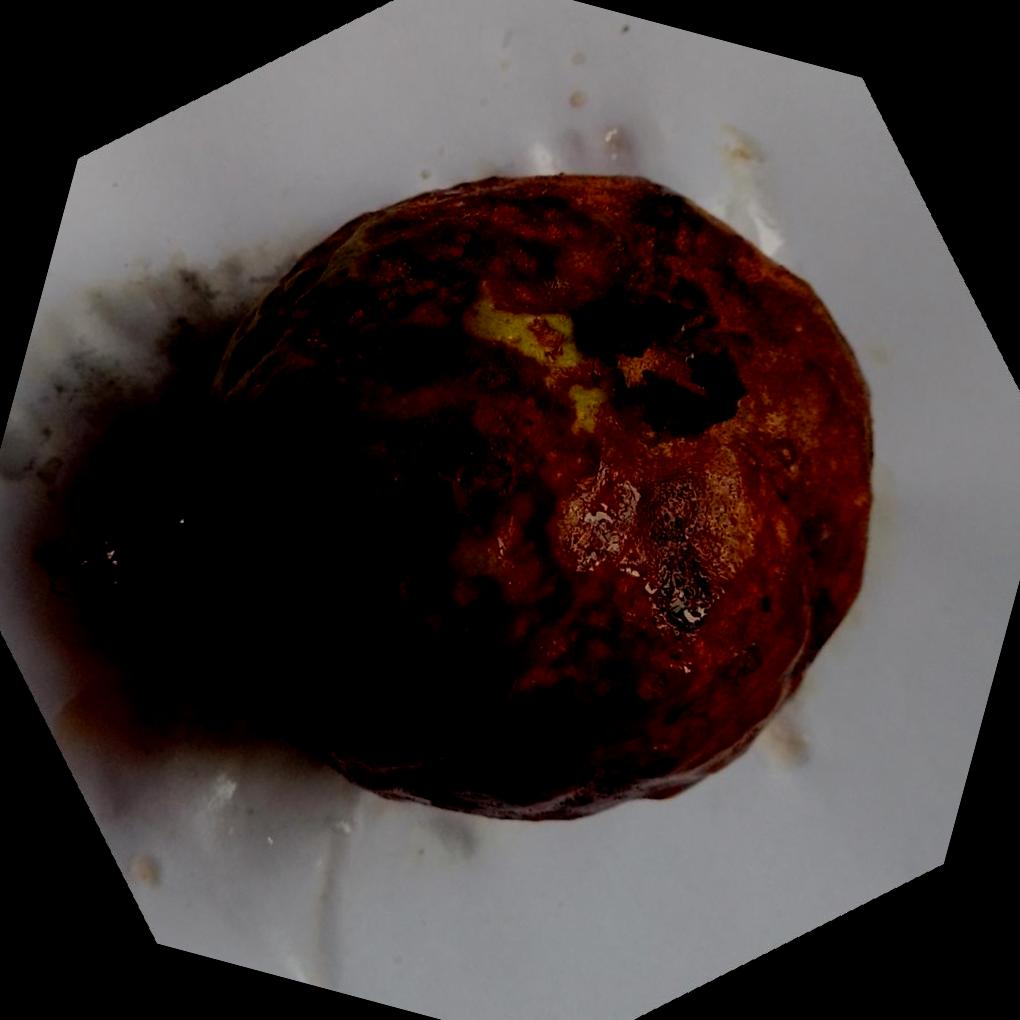FreshGuava: (169, 165, 876, 819)
FreshOrange: (174, 166, 876, 819)
